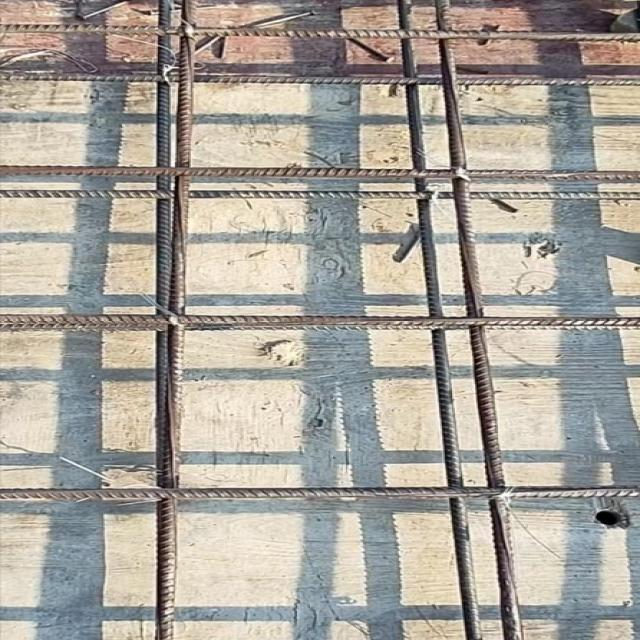ribbed bar: (432, 0, 523, 638), (393, 0, 480, 638), (149, 0, 198, 638), (0, 162, 637, 184), (0, 313, 637, 332), (0, 22, 637, 40), (0, 70, 637, 88), (0, 487, 637, 502), (0, 189, 637, 202), (151, 0, 170, 314)
